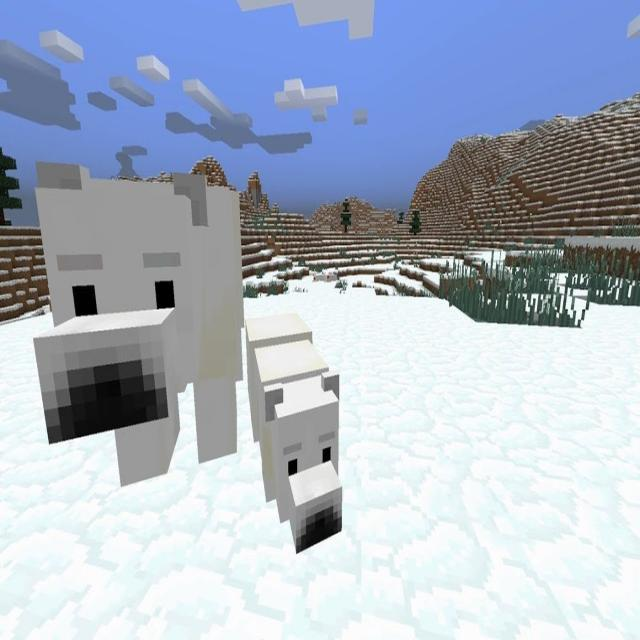Polar Bear: (31, 160, 245, 489), (243, 311, 344, 554)
